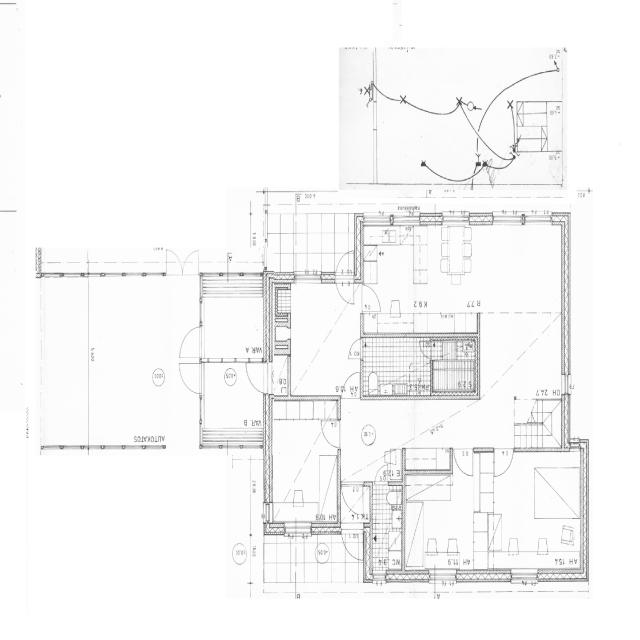door: (339, 478, 370, 518), (176, 356, 204, 397), (334, 248, 354, 304), (176, 322, 206, 358), (163, 248, 200, 276), (244, 359, 268, 394), (341, 525, 364, 561), (471, 156, 494, 188), (452, 445, 474, 478), (320, 418, 343, 449), (493, 446, 515, 478), (361, 282, 381, 312), (342, 369, 361, 398), (346, 336, 364, 360), (373, 463, 389, 484), (416, 395, 430, 414)
window: (93, 266, 157, 284), (282, 520, 314, 540), (491, 210, 524, 228), (508, 569, 539, 588), (292, 270, 324, 288), (522, 212, 554, 228), (440, 210, 470, 224), (389, 213, 421, 226), (362, 212, 393, 224), (561, 370, 572, 396)
zone: (78, 274, 202, 449), (491, 448, 584, 574), (268, 276, 362, 400), (267, 398, 339, 528), (404, 476, 492, 578), (474, 220, 563, 311), (477, 310, 565, 400), (413, 223, 475, 338), (361, 221, 414, 331), (200, 360, 266, 444), (200, 290, 267, 360), (361, 334, 429, 395), (532, 458, 584, 518), (514, 97, 563, 153), (431, 336, 477, 394), (372, 483, 403, 538), (369, 528, 403, 576), (404, 444, 452, 476), (339, 479, 373, 519), (267, 352, 290, 398), (387, 447, 403, 485)
